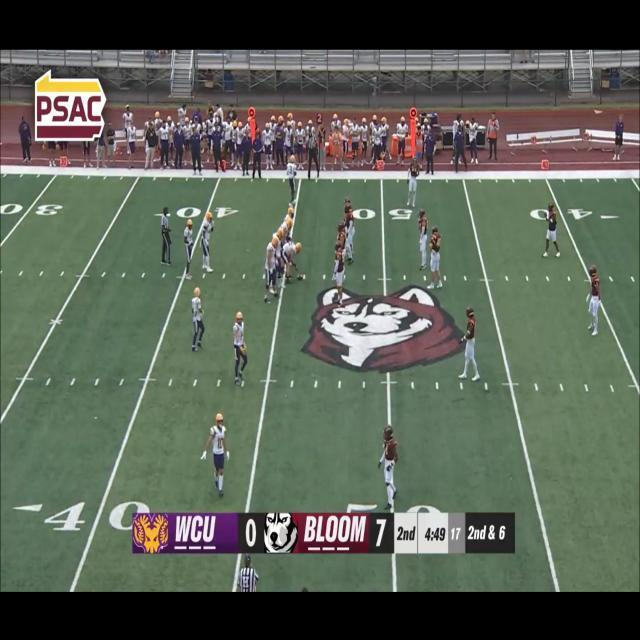football: (296, 272, 306, 282)
